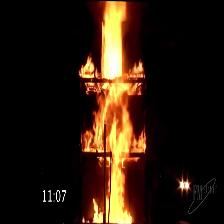fire: (77, 0, 150, 220)
